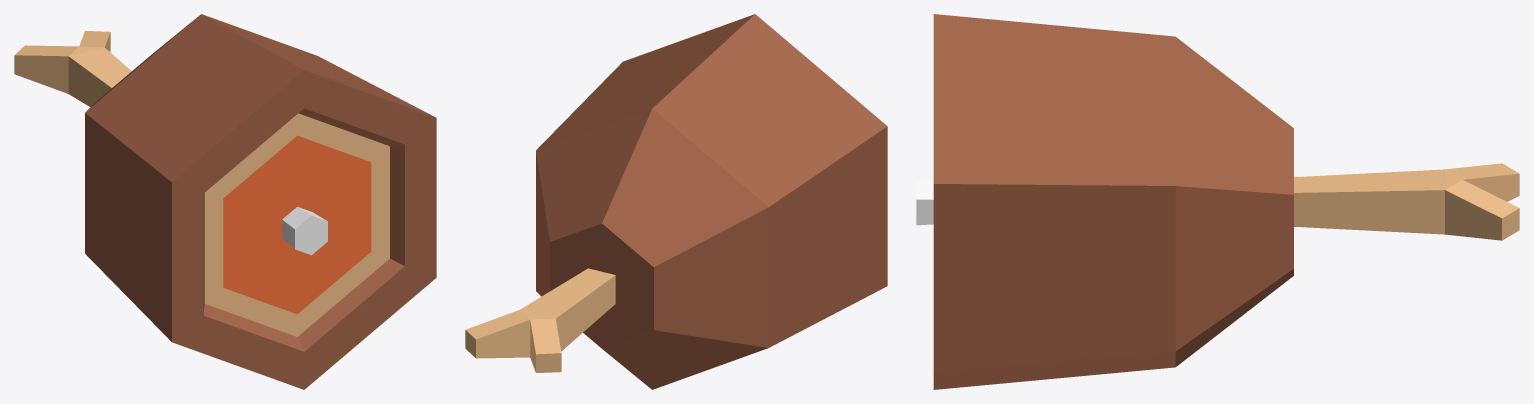
File: wholeHam.fbx
3 renders of one model, left to right at view 1: azimuth 30°, elevation 25°; view 2: azimuth 150°, elevation 25°; view 3: azimuth 270°, elevation 25°, orthographic. The views are drawn at different scales.
Parts seen in each view (by area): view 1: wholeHam; view 2: wholeHam; view 3: wholeHam.
Boxes of the visible parts, left/top/right/bottom form: wholeHam: left=14, top=14, right=436, bottom=389; wholeHam: left=465, top=14, right=887, bottom=389; wholeHam: left=916, top=14, right=1519, bottom=389.
Size of the model in its own units: 3.81 by 4.4 by 6.4.
